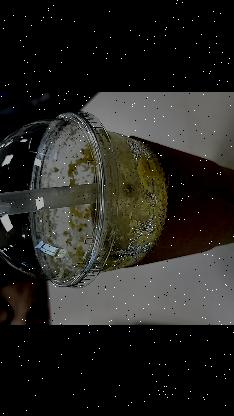Others: (0, 107, 234, 288), (0, 109, 118, 287), (0, 169, 100, 235)
